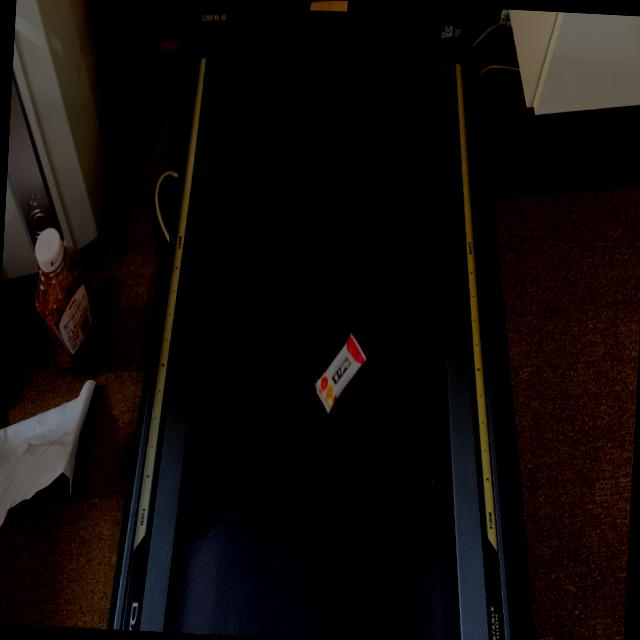Recycle: (312, 330, 368, 418), (308, 0, 354, 15)
